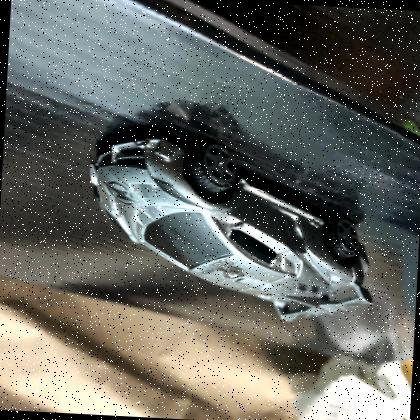Car: (89, 132, 374, 321)
